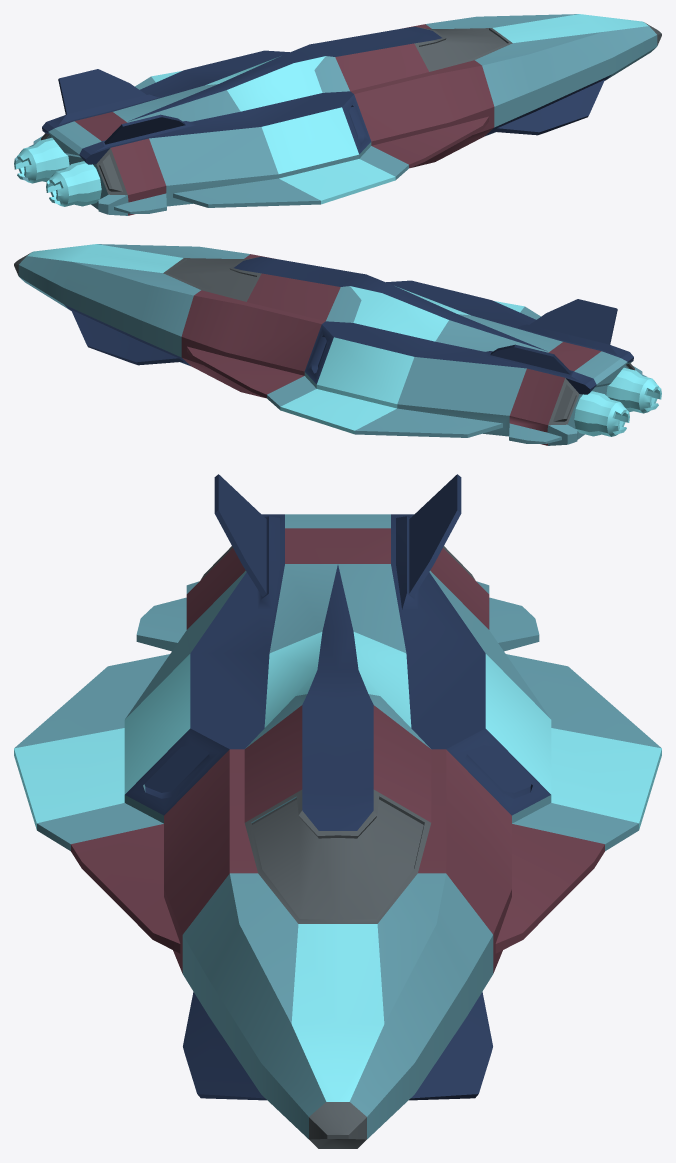
Rendered from spaceship_5.fbx.
3 renders of one model, top to bottom at view 1: azimuth 30°, elevation 25°; view 2: azimuth 150°, elevation 25°; view 3: azimuth 270°, elevation 25°, orthographic. The views are drawn at different scales.
Parts seen in each view (by area): view 1: Cube.002; view 2: Cube.002; view 3: Cube.002.
Part boxes in pixels (x1,y1,x2,y2): Cube.002: [14, 14, 661, 215]; Cube.002: [14, 244, 661, 445]; Cube.002: [14, 474, 661, 1148].
Size of the model in its own units: 1722 by 304 by 814.
